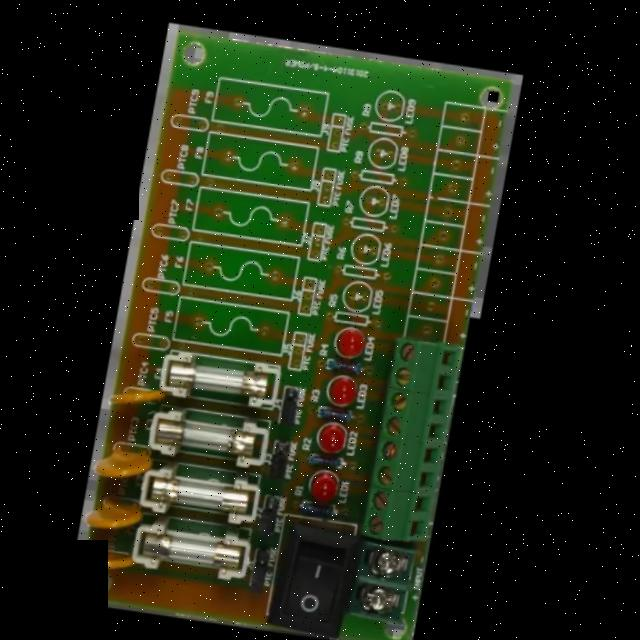2235: (287, 513, 364, 626)
LED: (339, 321, 379, 354), (315, 467, 353, 500), (324, 415, 360, 448), (332, 369, 368, 400)
connector -5v-: (374, 325, 476, 493), (372, 483, 442, 545)
fuse F1: (168, 349, 288, 402), (143, 524, 257, 576), (156, 411, 273, 461), (153, 470, 265, 514)
resistor IR1: (319, 397, 368, 417), (334, 346, 374, 369), (305, 495, 350, 514), (316, 446, 361, 464)
